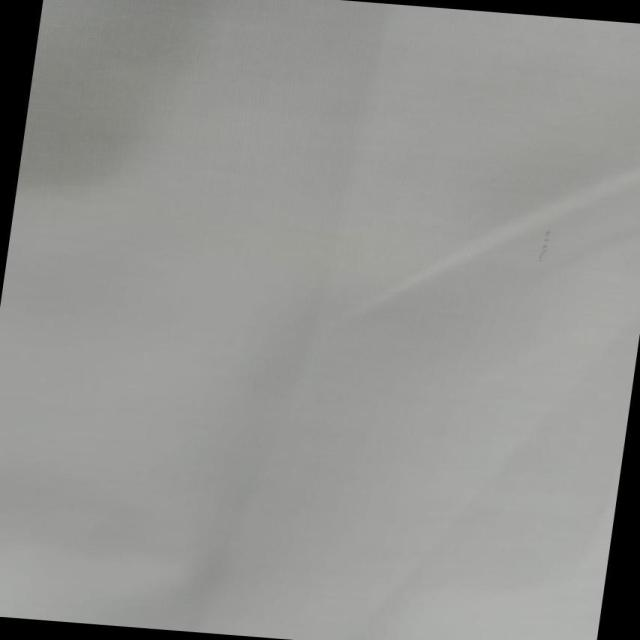contamination: (531, 222, 561, 271)
